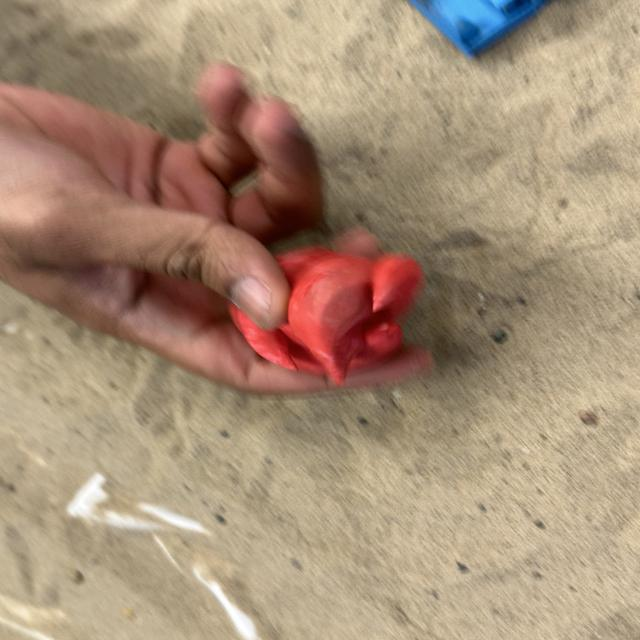fire: (227, 231, 426, 387)
